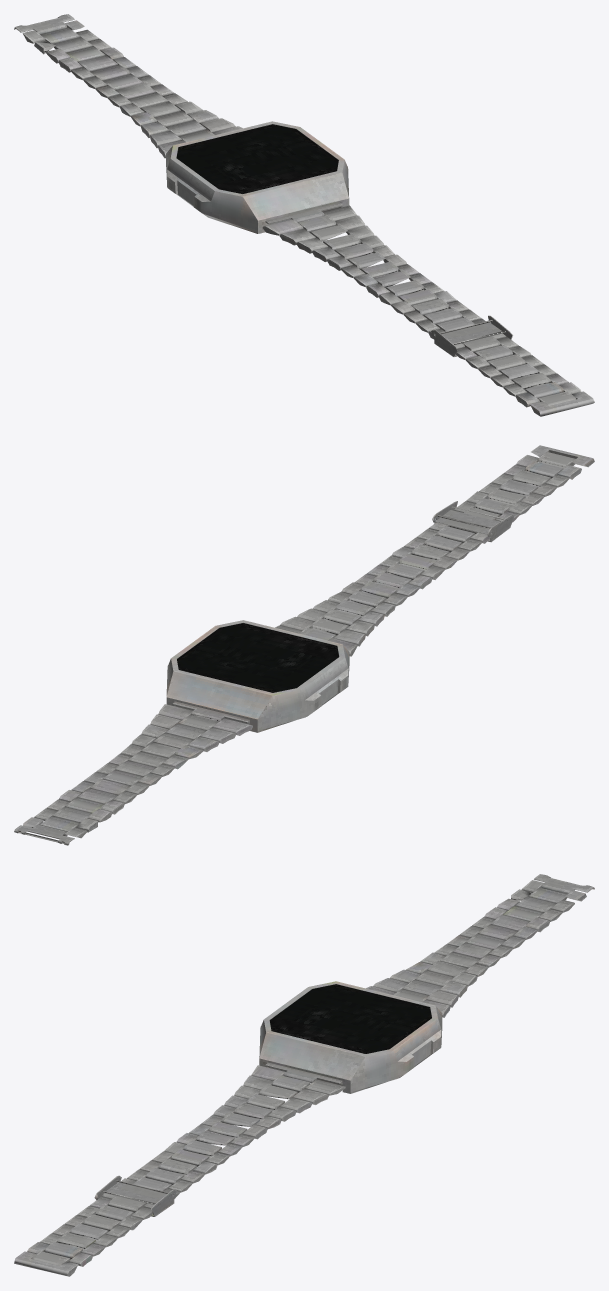
The model's file is gps.glb.
3 views of the same model, one above another, from view 1: azimuth 30°, elevation 25°; view 2: azimuth 150°, elevation 25°; view 3: azimuth 330°, elevation 25° (orthographic).
Bounding box in the file's own units: 0.0347 × 0.00834 × 0.2172.
2 materials, 2 textured.
